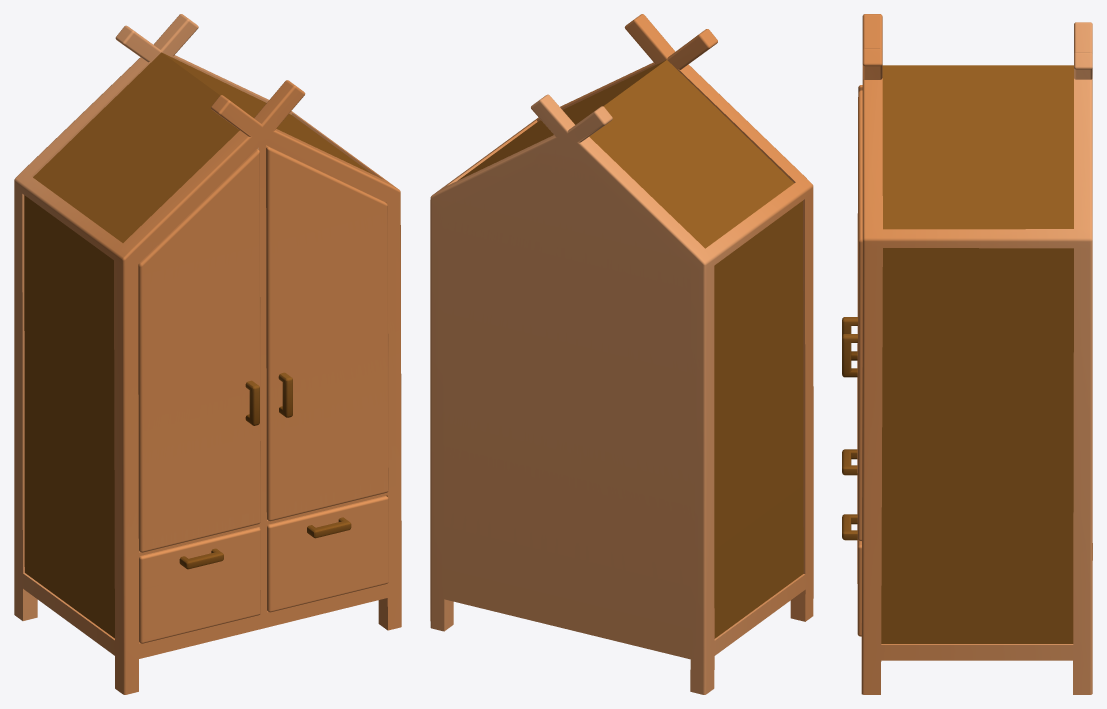
File: SM_Placard_01.fbx
3 views of the same model, side by side, from view 1: azimuth 30°, elevation 25°; view 2: azimuth 150°, elevation 25°; view 3: azimuth 270°, elevation 25° (orthographic). The views are drawn at different scales.
Parts seen in each view (by area): view 1: Placard; view 2: Placard; view 3: Placard.
Boxes of the visible parts, box(x1,y1,x2,y2) form: Placard: box(14, 14, 401, 694); Placard: box(430, 14, 813, 694); Placard: box(842, 14, 1092, 694).
Size of the model in its own units: 104 by 202 by 77.41.
